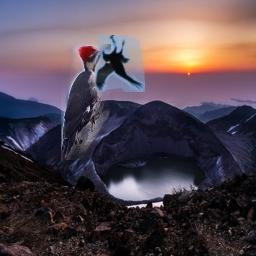Crow: (95, 35, 145, 92)
Woodpecker: (61, 44, 111, 160)
